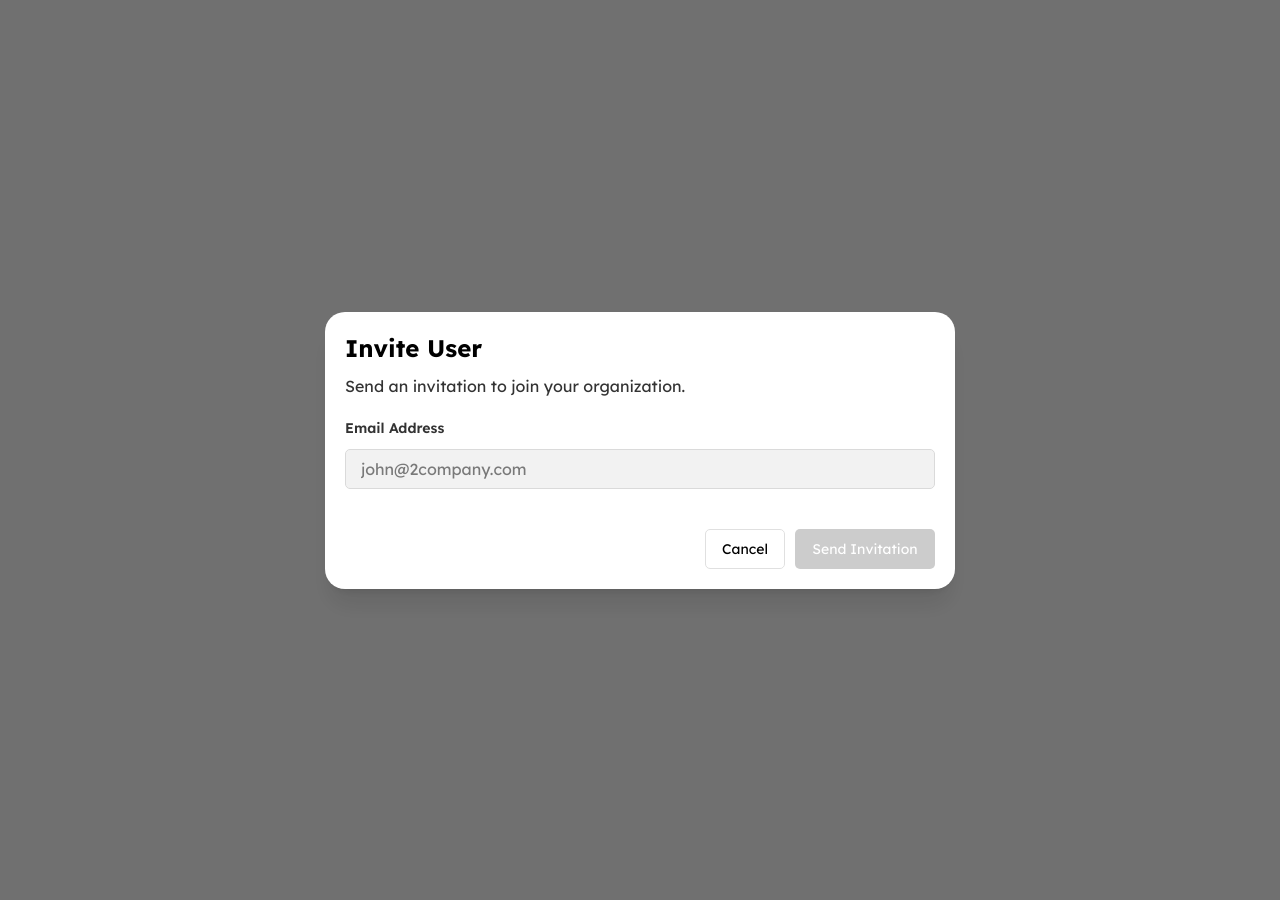
InviteUserModal › flags an invalid email on blur
Type "not-an-email" into the field with placeholder "john@2company.com" at (640, 468), box [361,456,919,480]
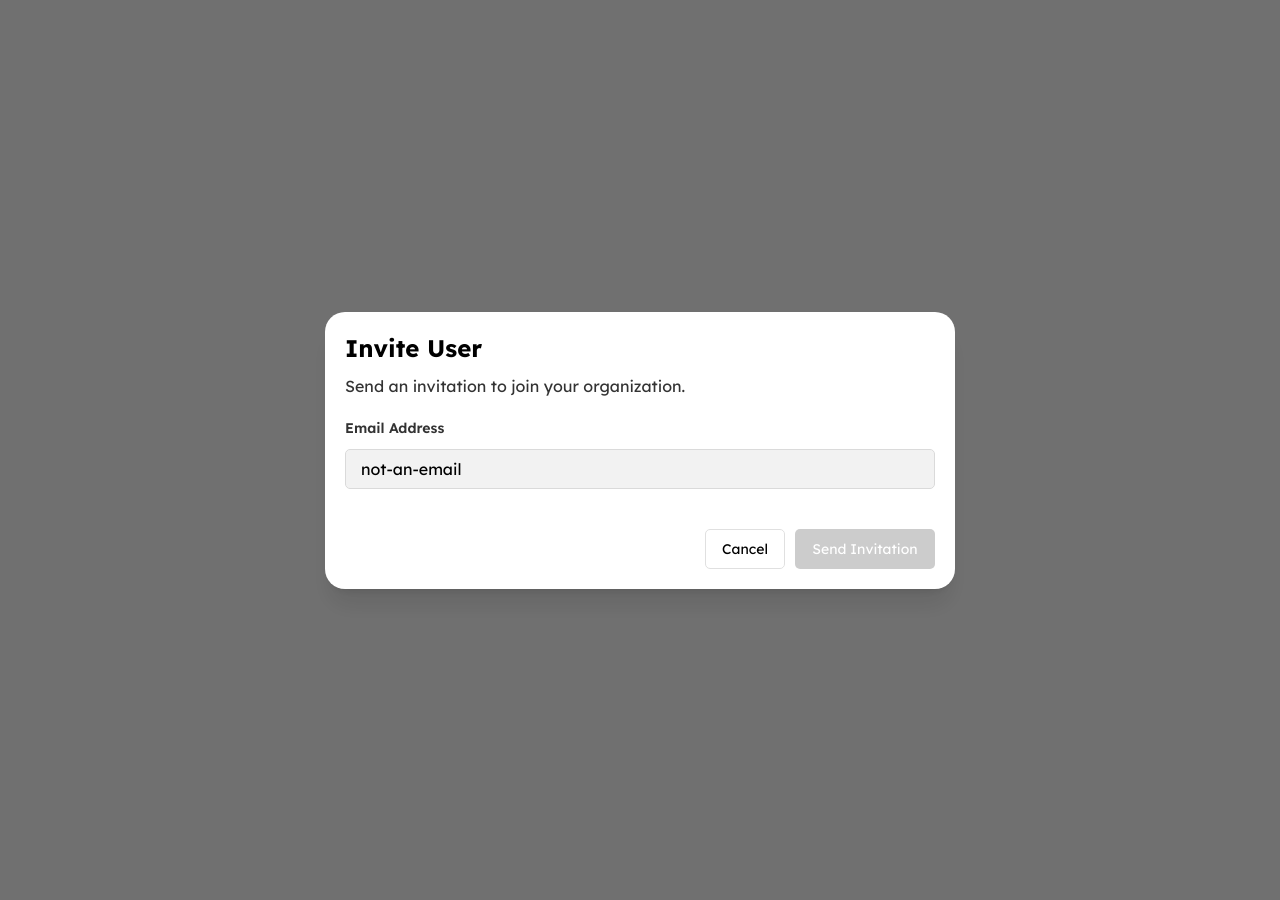
Leave the field with placeholder "john@2company.com", box [361,456,919,480]
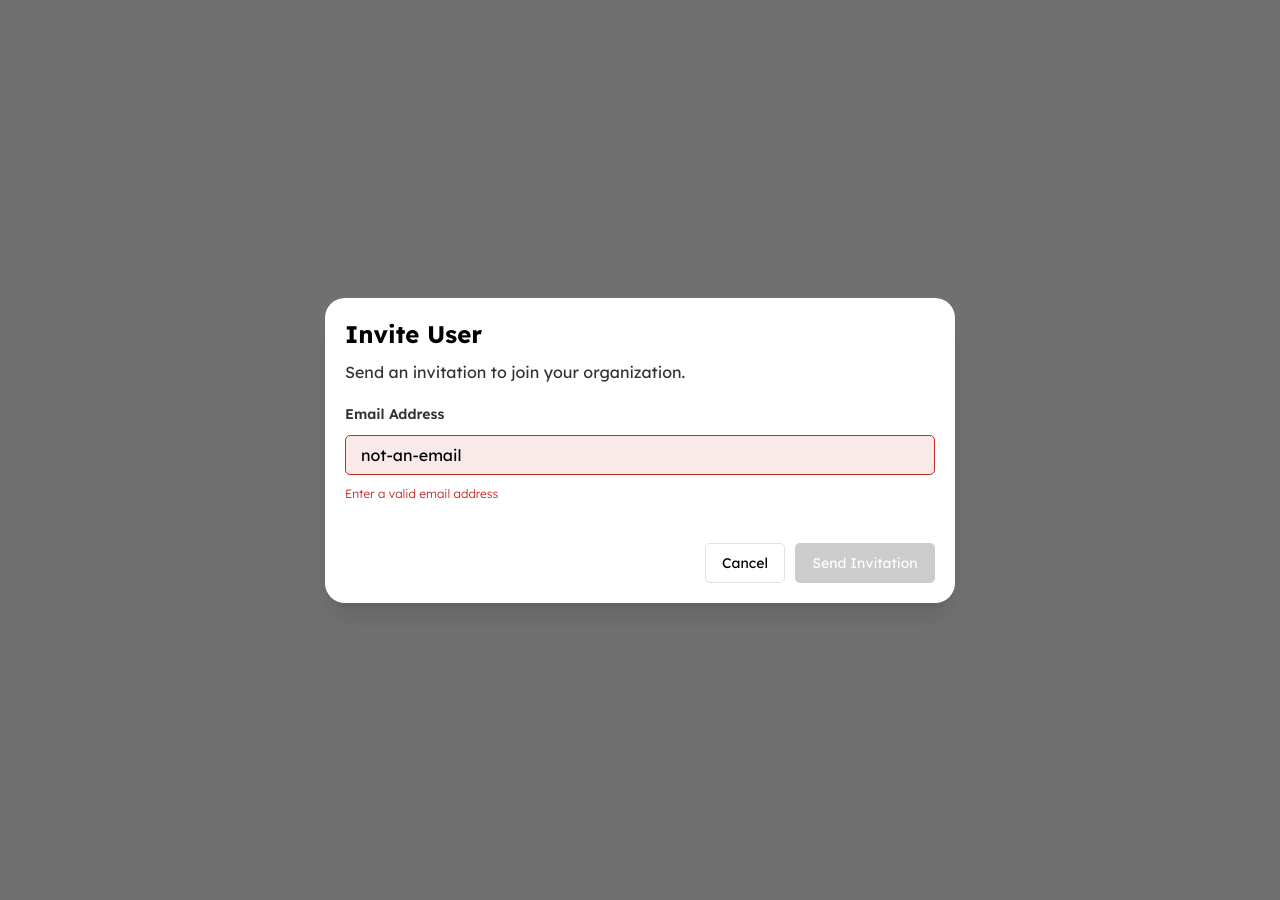
Check: the message reads "Enter a valid email address", box [345,486,498,500]
